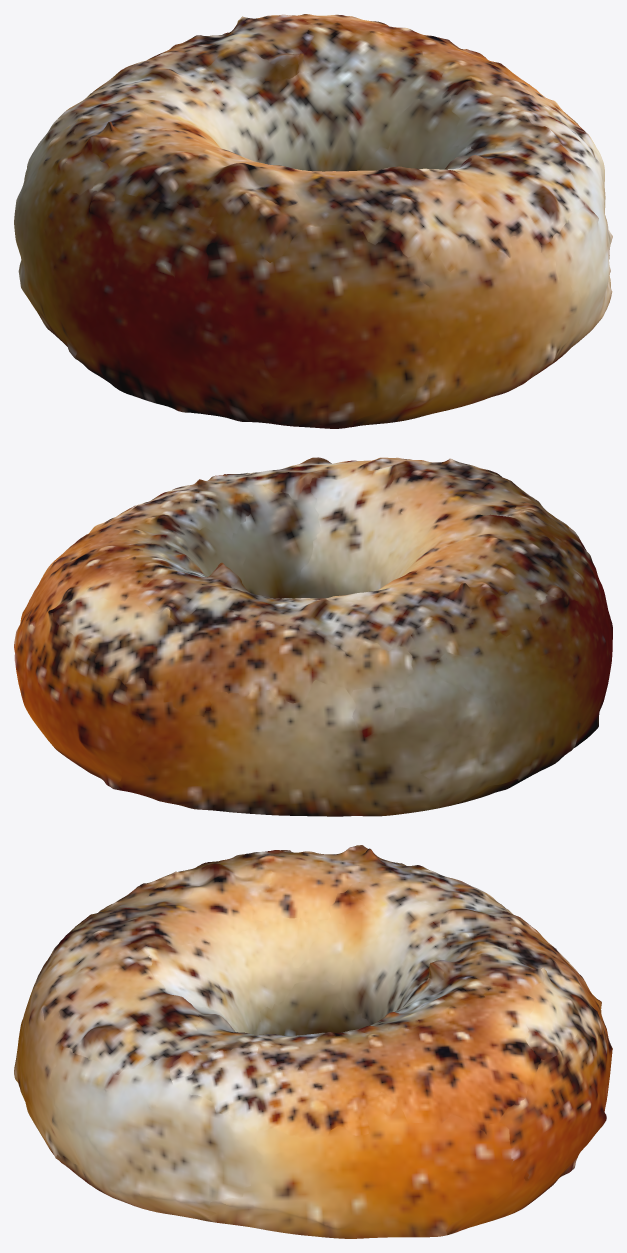
Rendered from everything_bagel.glb.
3 renders of one model, top to bottom at view 1: azimuth 30°, elevation 25°; view 2: azimuth 150°, elevation 25°; view 3: azimuth 270°, elevation 25°, orthographic. The views are drawn at different scales.
Visible parts, largest first — view 1: Object_2; view 2: Object_2; view 3: Object_2.
Boxes of the visible parts, left/top/right/bottom form: Object_2: left=14, top=14, right=612, bottom=428; Object_2: left=14, top=457, right=612, bottom=816; Object_2: left=14, top=845, right=612, bottom=1238.
Bounding box in the file's own units: 2.32 × 0.8592 × 2.36.
1 material, 1 textured.
